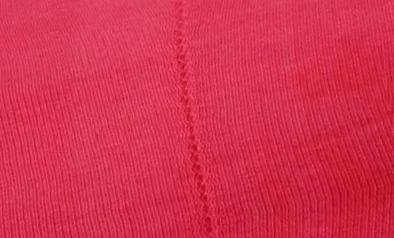slub: (165, 1, 220, 238)
